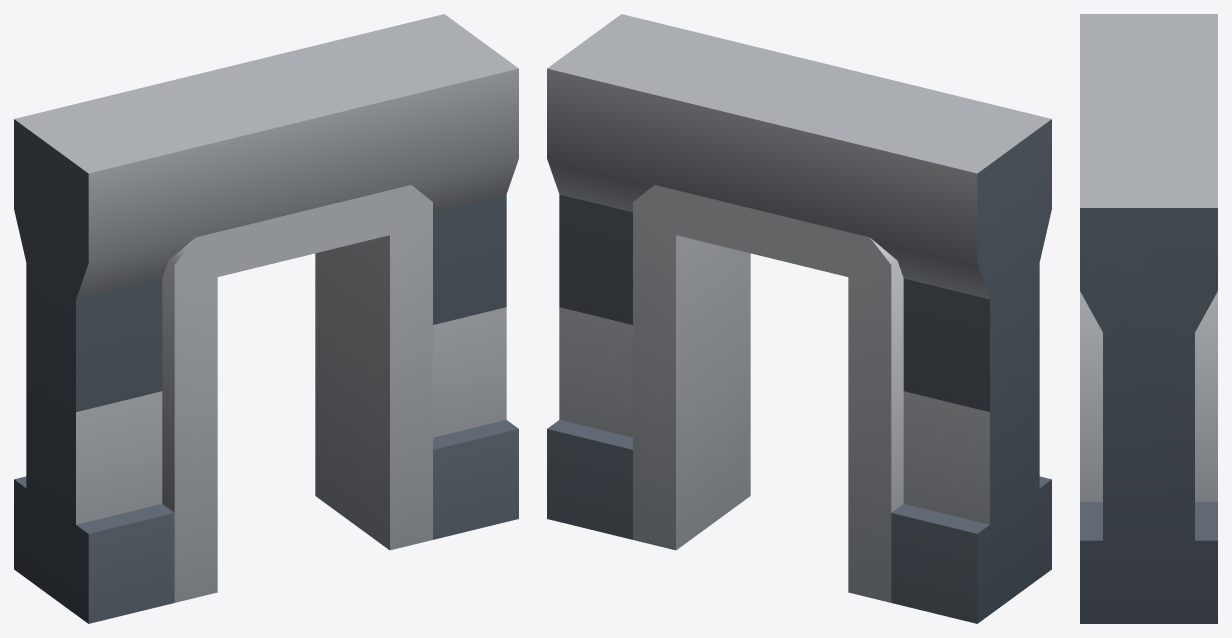
File: wall-door-banner.glb
The picture shows the model from 3 angles, left to right: view 1: azimuth 30°, elevation 25°; view 2: azimuth 150°, elevation 25°; view 3: azimuth 270°, elevation 25°; orthographic projection. The views are drawn at different scales.
Visible parts, largest first — view 1: wall-door-banner; view 2: wall-door-banner; view 3: wall-door-banner.
Part boxes in pixels (<box>): wall-door-banner: <box>14,14,518,623</box>; wall-door-banner: <box>547,14,1051,623</box>; wall-door-banner: <box>1080,14,1217,623</box>.
Bounding box in the file's own units: 1 × 1 × 0.3.
